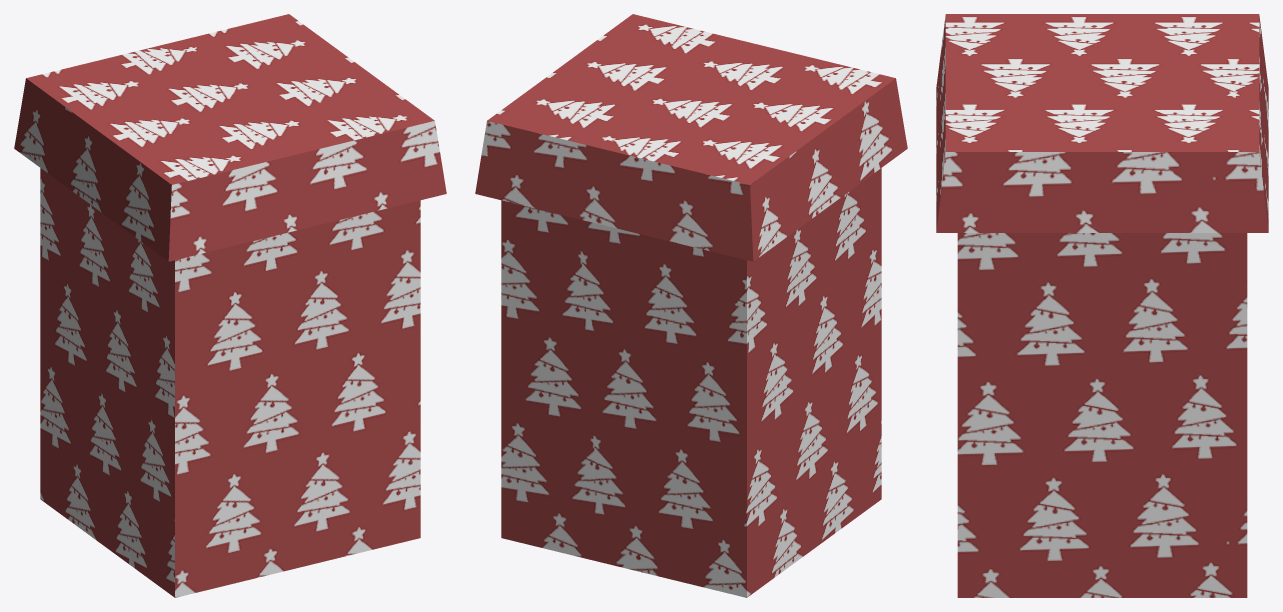
Rendered from M_Gift_11.FBX.
The picture shows the model from 3 angles, left to right: view 1: azimuth 30°, elevation 25°; view 2: azimuth 150°, elevation 25°; view 3: azimuth 270°, elevation 25°; orthographic projection. The views are drawn at different scales.
Parts seen in each view (by area): view 1: Object013; view 2: Object013; view 3: Object013.
Part boxes in pixels (x1,y1,x2,y2): Object013: (14,14,446,597); Object013: (475,14,907,597); Object013: (936,14,1268,597).
Size of the model in its own units: 50.39 by 72.59 by 48.49.
Materials: 1 (1 with a texture image).
